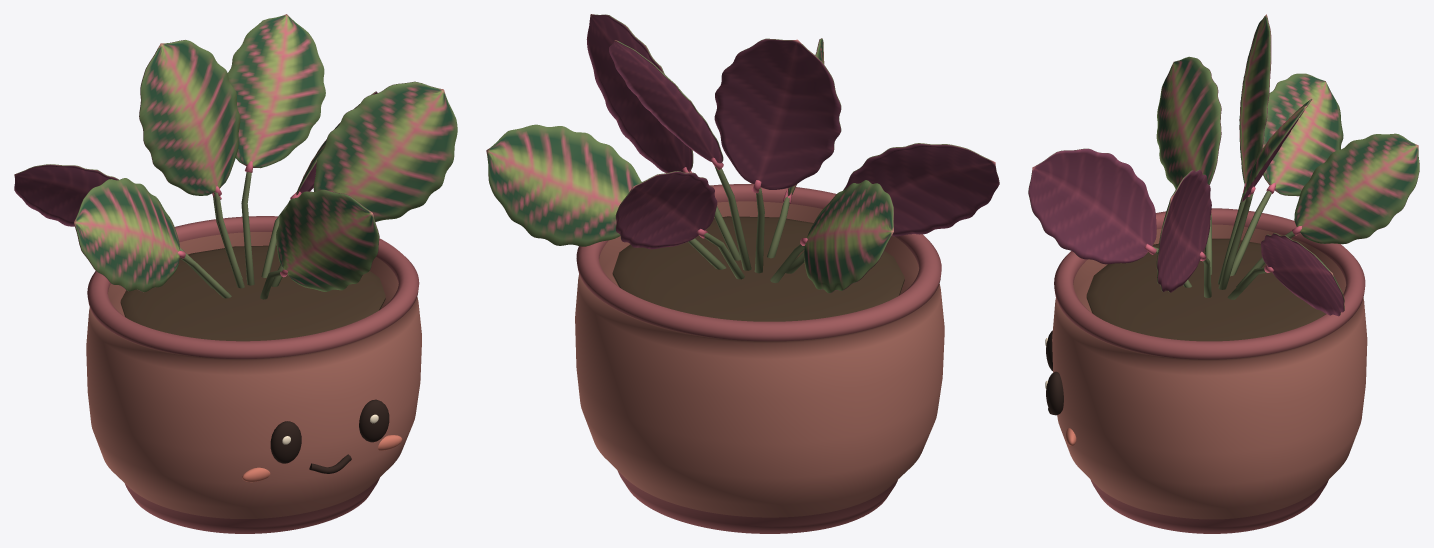
Rendered from maranta-v1.glb.
3 renders of one model, left to right at view 1: azimuth 30°, elevation 25°; view 2: azimuth 150°, elevation 25°; view 3: azimuth 270°, elevation 25°, orthographic. The views are drawn at different scales.
Visible parts, largest first — view 1: Wheel-thrown ceramic, Foliage draw mesh, Soil, Eye, Eye.001; view 2: Wheel-thrown ceramic, Foliage draw mesh, Soil; view 3: Wheel-thrown ceramic, Foliage draw mesh, Soil, Eye.001.
Boxes of the visible parts, bbox=[...] form: Wheel-thrown ceramic: bbox=[86, 216, 421, 533]; Foliage draw mesh: bbox=[14, 14, 457, 299]; Soil: bbox=[120, 245, 385, 341]; Eye: bbox=[270, 421, 301, 463]; Eye.001: bbox=[359, 399, 389, 442]; Wheel-thrown ceramic: bbox=[575, 184, 944, 533]; Foliage draw mesh: bbox=[486, 14, 999, 293]; Soil: bbox=[612, 216, 904, 321]; Wheel-thrown ceramic: bbox=[1052, 208, 1367, 533]; Foliage draw mesh: bbox=[1028, 14, 1419, 316]; Soil: bbox=[1086, 238, 1325, 341]; Eye.001: bbox=[1046, 371, 1063, 415].
Size of the model in its own units: 2.1 by 2.3 by 1.86.
